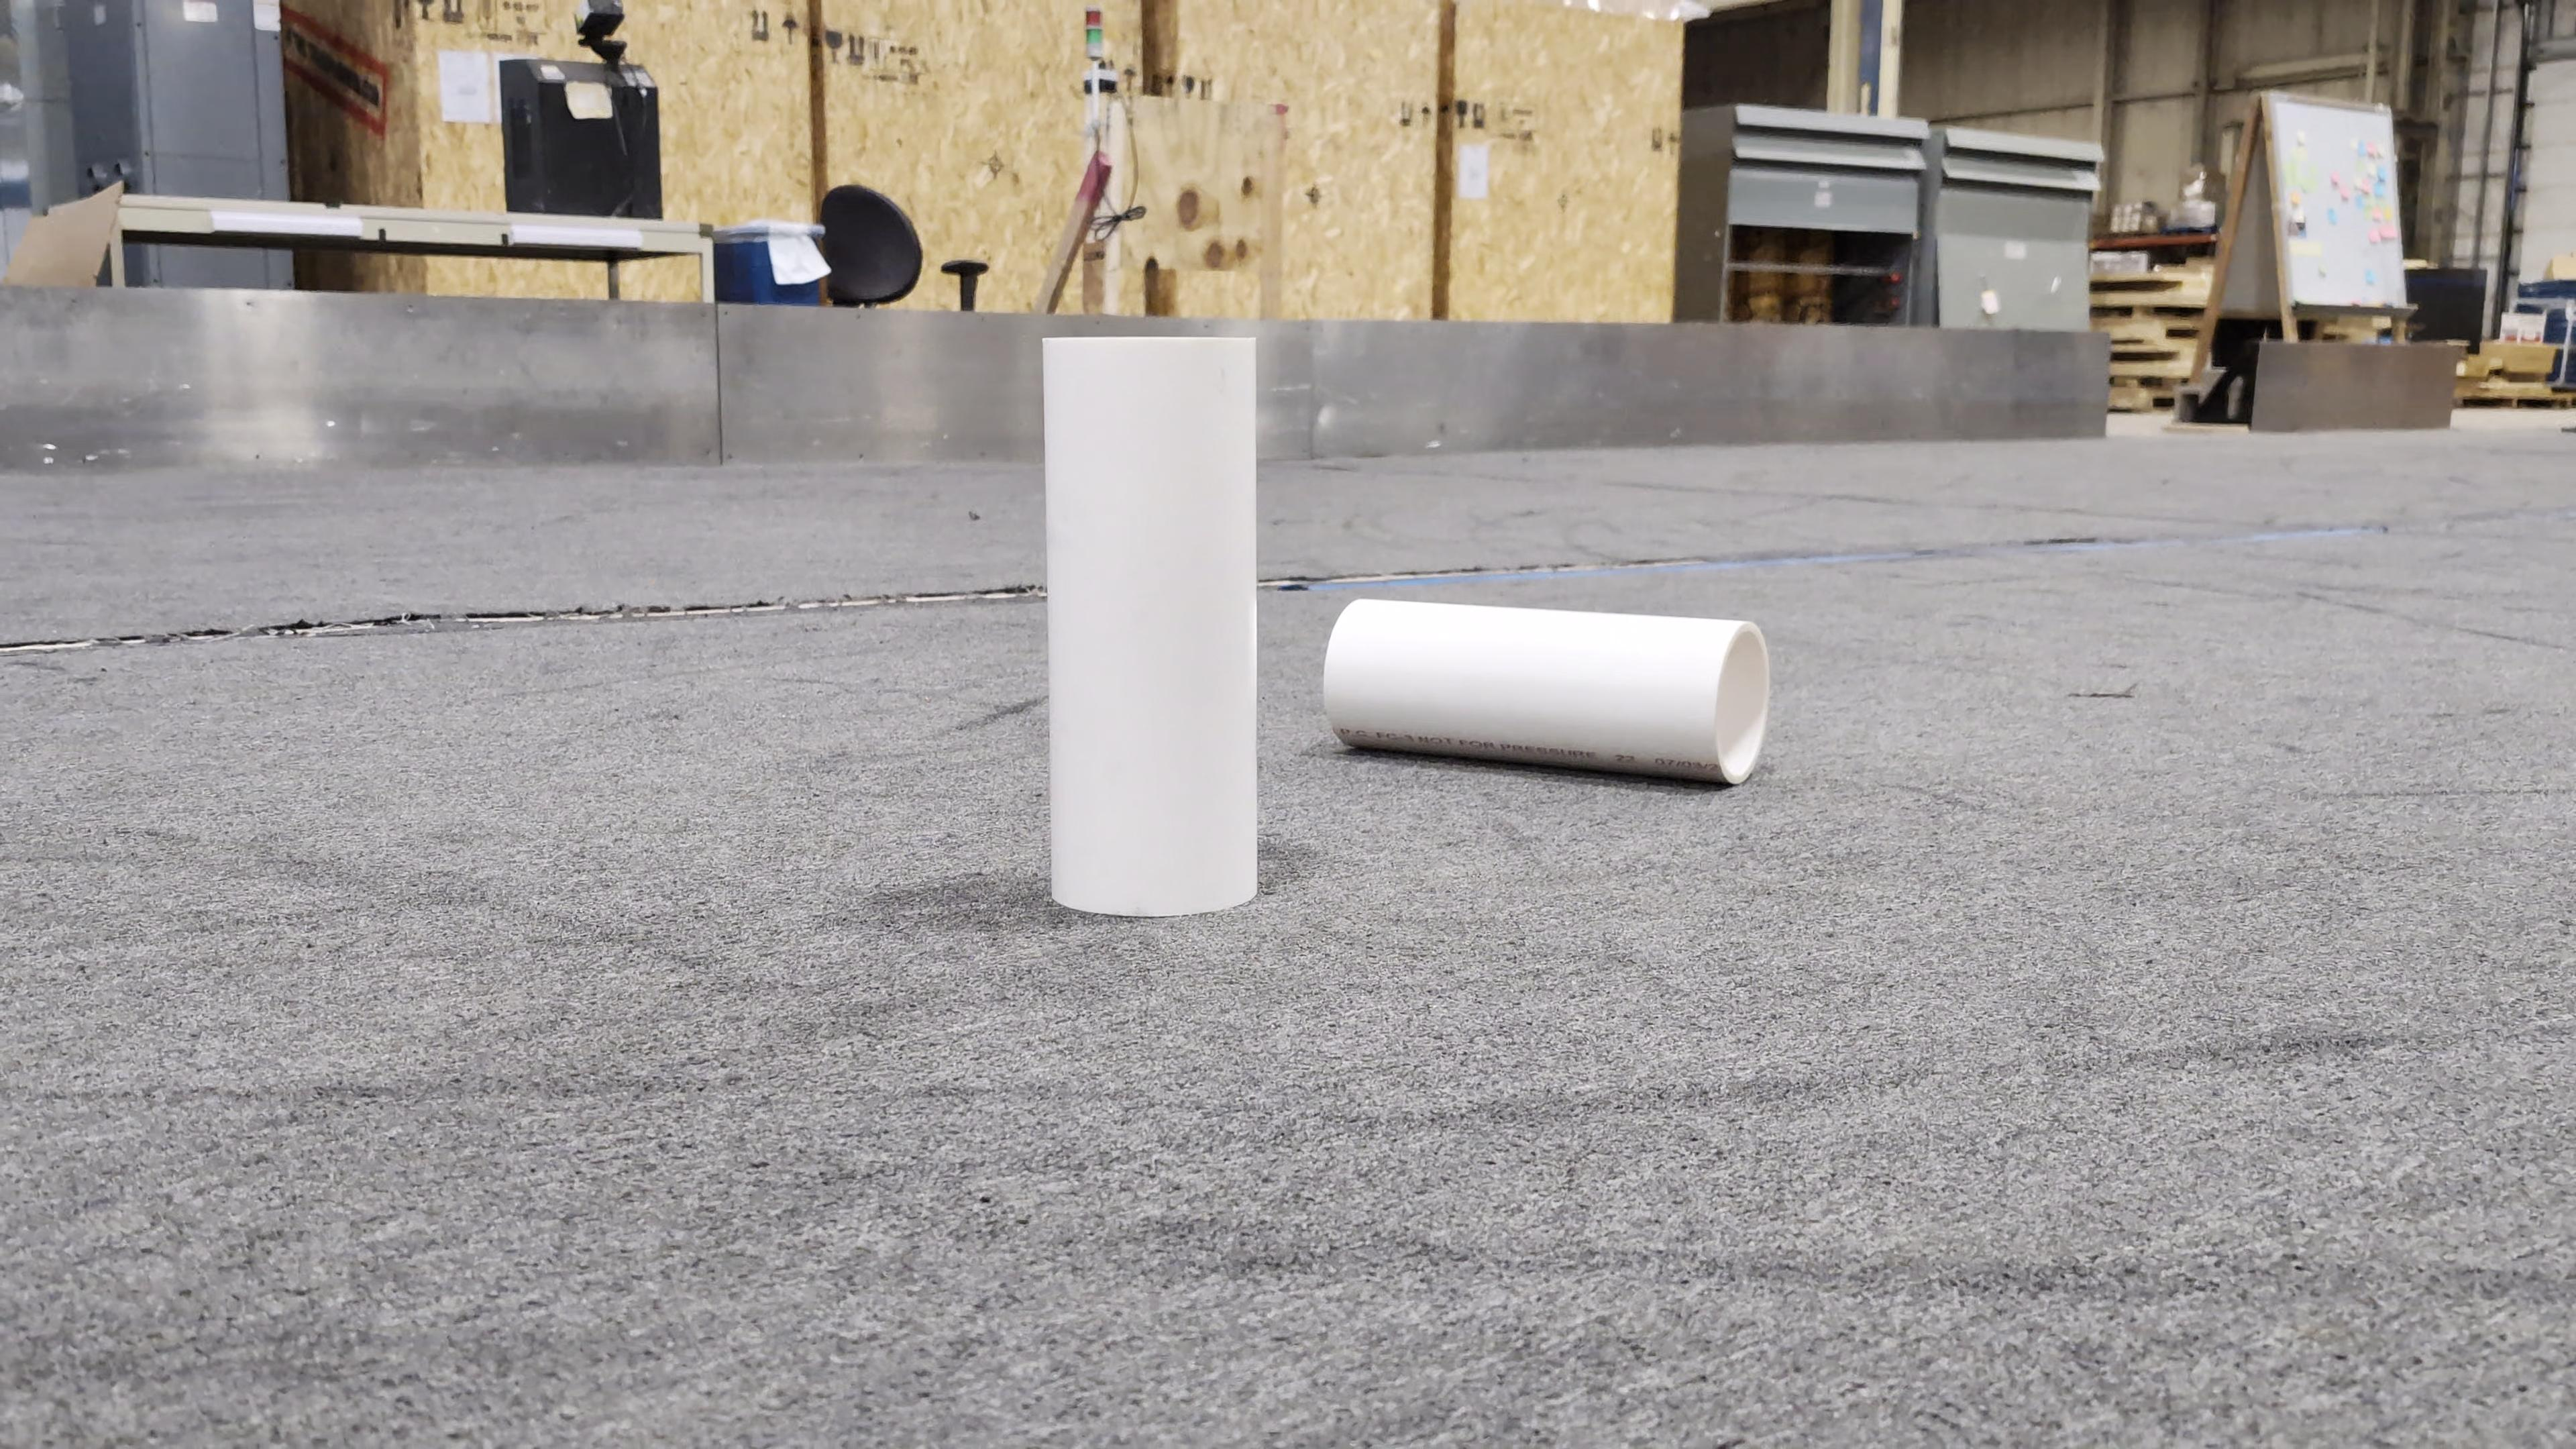coral: (1044, 334, 1258, 915), (1320, 594, 1773, 782)
